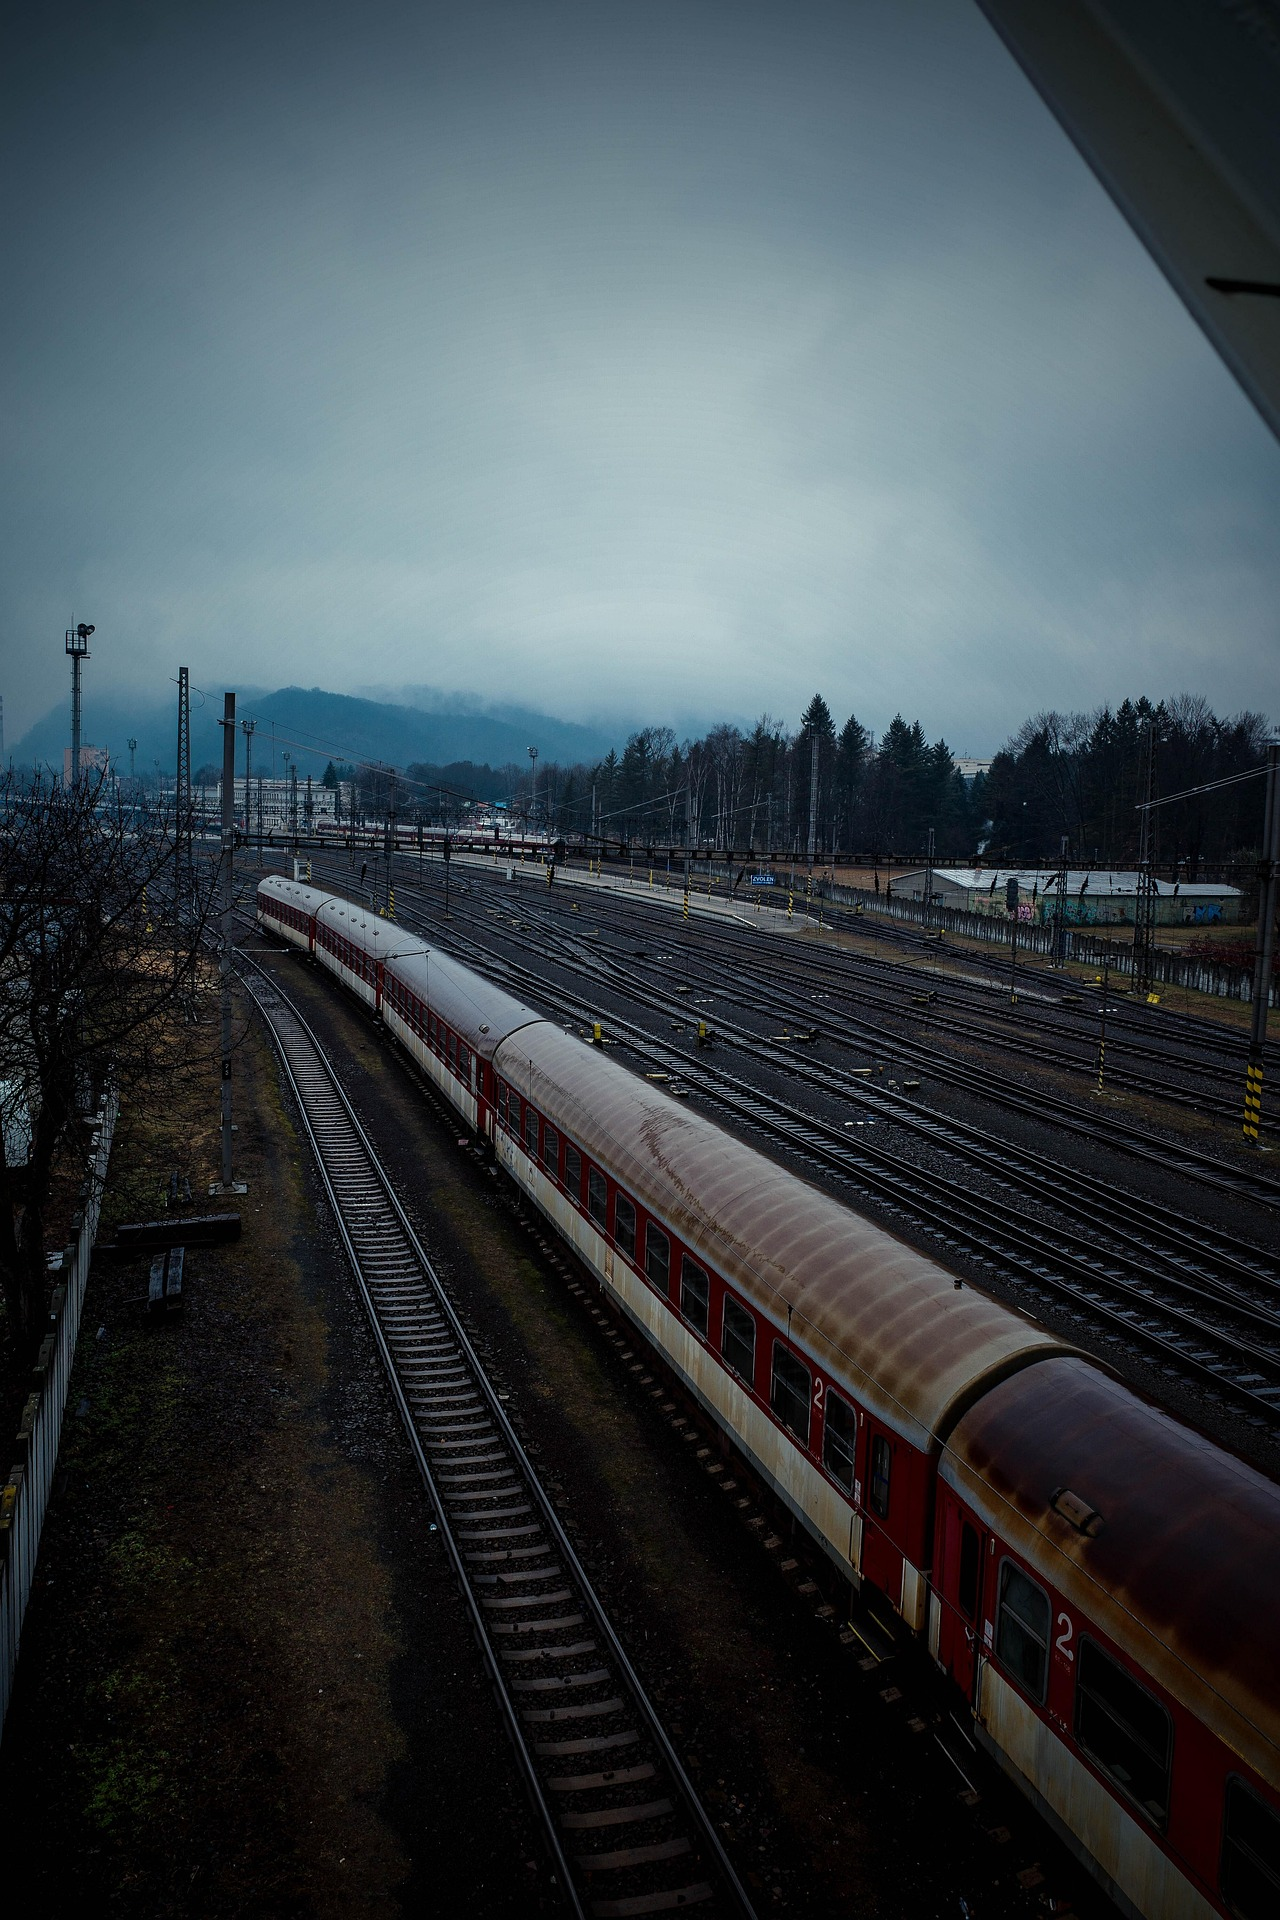train1: (241, 873, 1273, 1906)
